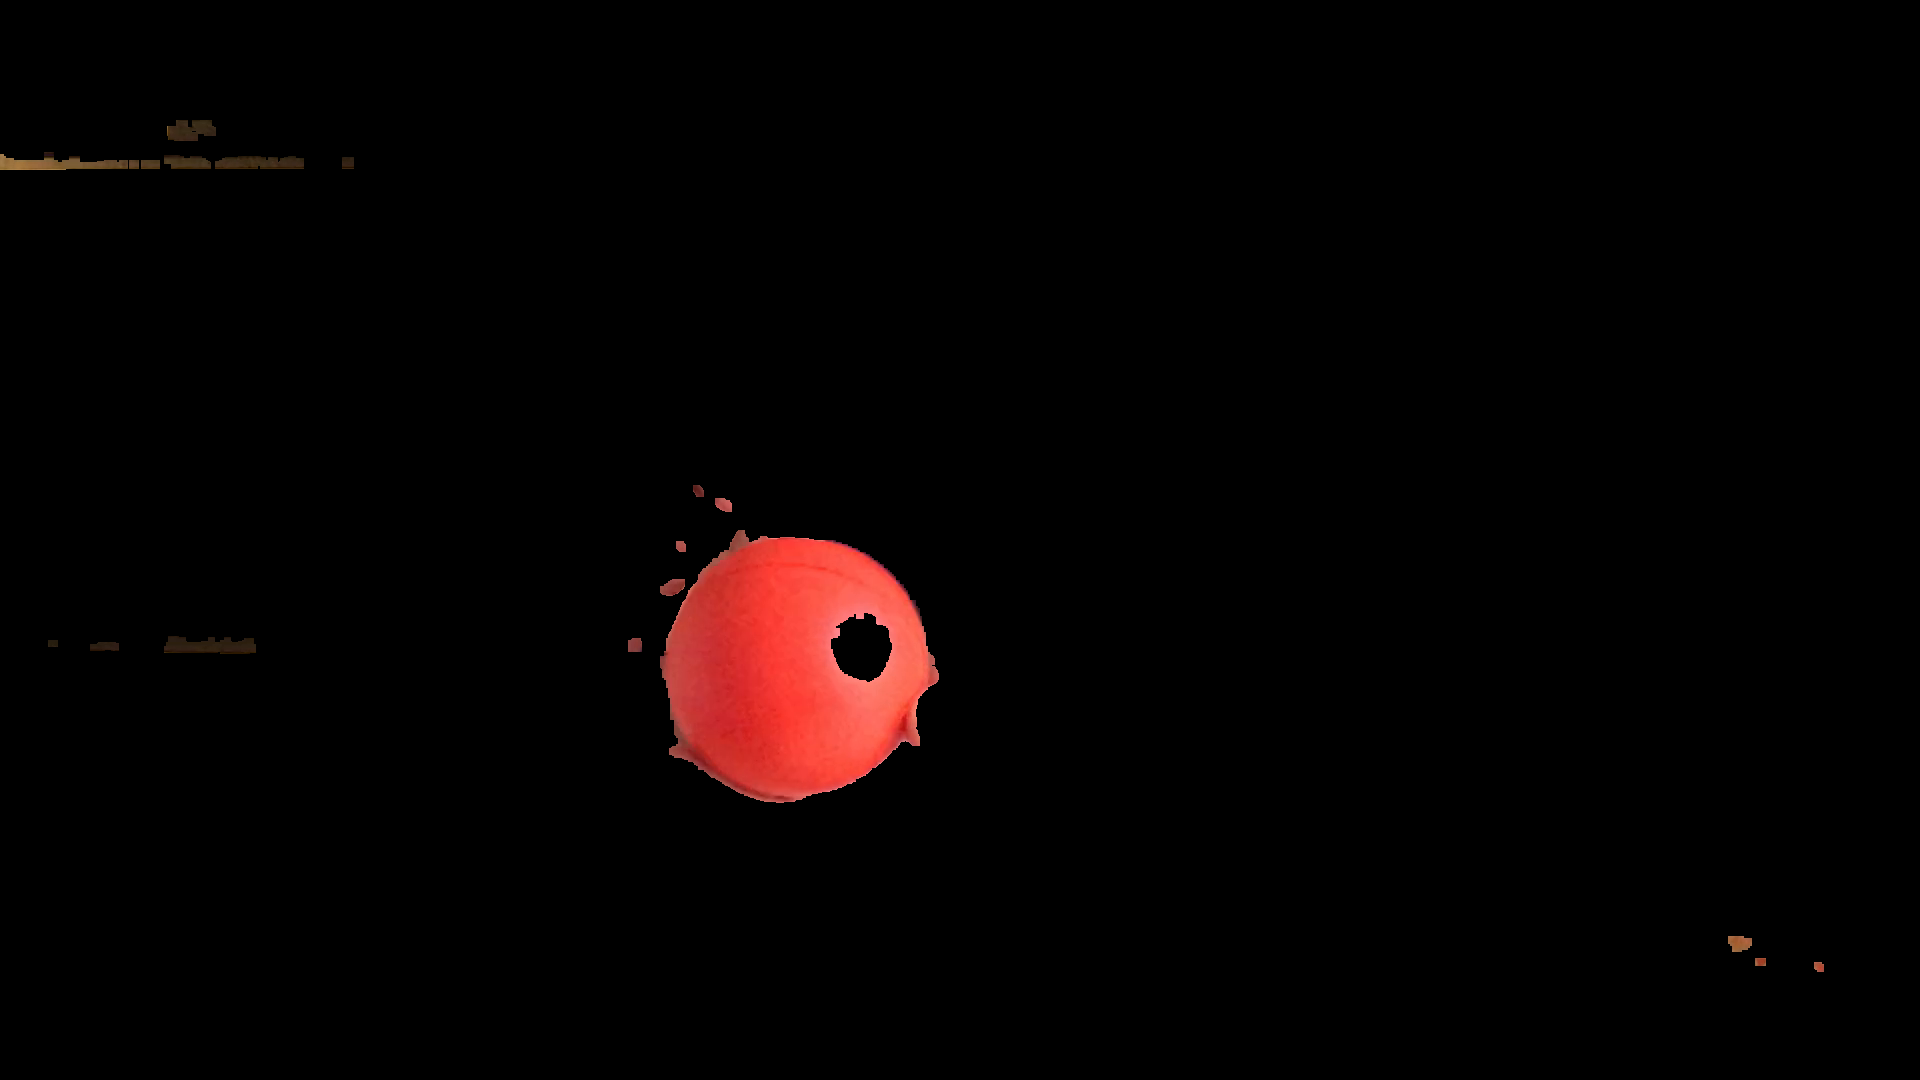Ball: (675, 531, 930, 796)
